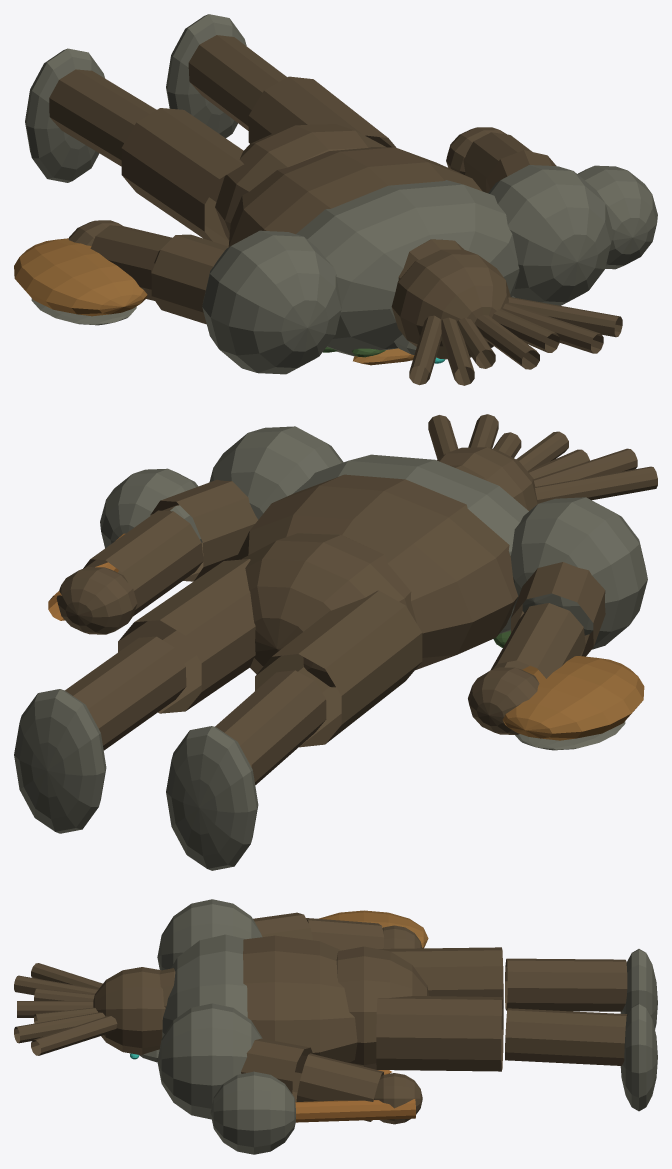
File: forest-guardian.obj
3 views of the same model, one above another, from view 1: azimuth 30°, elevation 25°; view 2: azimuth 150°, elevation 25°; view 3: azimuth 270°, elevation 25° (orthographic). The views are drawn at different scales.
Parts seen in each view (by area): view 1: GUARDIAN_chest, GUARDIAN_shoulder__1, GUARDIAN_shoulder_1, GUARDIAN_torso, GUARDIAN_thigh__1, GUARDIAN_head, GUARDIAN_shield, GUARDIAN_calf__1, GUARDIAN_pelvis, GUARDIAN_foot__1, GUARDIAN_calf_1, GUARDIAN_thigh_1 (+18 smaller); view 2: GUARDIAN_torso, GUARDIAN_pelvis, GUARDIAN_thigh__1, GUARDIAN_shoulder__1, GUARDIAN_thigh_1, GUARDIAN_foot_1, GUARDIAN_foot__1, GUARDIAN_shield, GUARDIAN_calf_1, GUARDIAN_calf__1, GUARDIAN_shoulder_1, GUARDIAN_forearm_1 (+15 smaller); view 3: GUARDIAN_torso, GUARDIAN_thigh_1, GUARDIAN_shoulder_1, GUARDIAN_calf__1, GUARDIAN_calf_1, GUARDIAN_mace_head, GUARDIAN_pelvis, GUARDIAN_chest, GUARDIAN_head, GUARDIAN_thigh__1, GUARDIAN_shoulder__1, GUARDIAN_forearm_1 (+17 smaller).
Part boxes in pixels (box(x1,y1,x2,y2)): GUARDIAN_chest: box(296, 180, 519, 356); GUARDIAN_shoulder__1: box(202, 230, 341, 374); GUARDIAN_shoulder_1: box(488, 165, 613, 305); GUARDIAN_torso: box(228, 147, 482, 246); GUARDIAN_thigh__1: box(121, 108, 243, 246); GUARDIAN_head: box(391, 249, 510, 359); GUARDIAN_shield: box(14, 238, 147, 316); GUARDIAN_calf__1: box(49, 69, 156, 166); GUARDIAN_pelvis: box(215, 124, 386, 240); GUARDIAN_foot__1: box(25, 48, 104, 182); GUARDIAN_calf_1: box(188, 35, 286, 130); GUARDIAN_thigh_1: box(248, 76, 395, 147); GUARDIAN_torso: box(235, 474, 518, 670); GUARDIAN_pelvis: box(241, 533, 416, 687); GUARDIAN_thigh__1: box(255, 590, 422, 747); GUARDIAN_shoulder__1: box(510, 497, 647, 649); GUARDIAN_thigh_1: box(118, 559, 255, 713); GUARDIAN_foot_1: box(14, 689, 106, 833); GUARDIAN_foot__1: box(166, 726, 258, 870); GUARDIAN_shield: box(502, 656, 644, 740); GUARDIAN_calf_1: box(65, 636, 186, 750); GUARDIAN_calf__1: box(215, 670, 326, 784); GUARDIAN_shoulder_1: box(209, 426, 343, 519); GUARDIAN_forearm_1: box(83, 510, 203, 616); GUARDIAN_torso: box(243, 935, 357, 1062); GUARDIAN_thigh_1: box(376, 996, 503, 1071); GUARDIAN_shoulder_1: box(157, 1003, 262, 1119); GUARDIAN_calf__1: box(505, 958, 627, 1011); GUARDIAN_calf_1: box(505, 1008, 627, 1065); GUARDIAN_mace_head: box(210, 1071, 295, 1154); GUARDIAN_pelvis: box(336, 946, 429, 1069); GUARDIAN_chest: box(162, 934, 247, 1037); GUARDIAN_head: box(93, 967, 165, 1055); GUARDIAN_thigh__1: box(379, 947, 503, 1005); GUARDIAN_shoulder__1: box(157, 899, 262, 970); GUARDIAN_forearm_1: box(296, 1053, 383, 1121).
Size of the model in its own units: 2.68 by 0.77 by 3.4.
